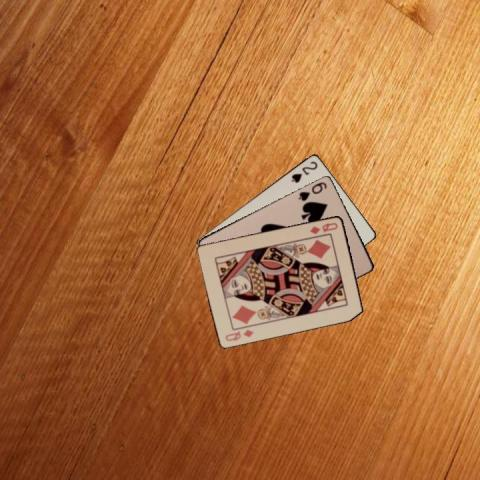2s: (288, 158, 319, 184)
6s: (295, 179, 328, 202)
Qd: (308, 219, 340, 236), (223, 326, 255, 342)
